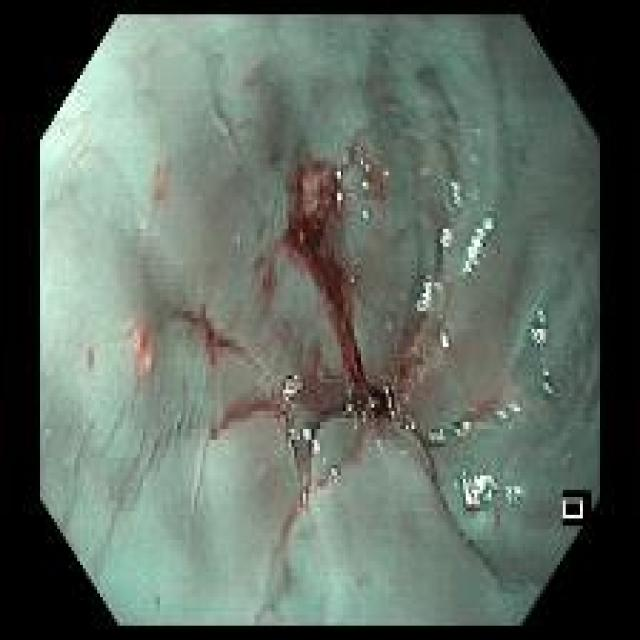blood: (277, 162, 364, 386)
color misalignment: (564, 499, 584, 523)
specularity: (461, 220, 493, 278), (461, 475, 499, 511), (417, 278, 445, 316), (529, 311, 548, 352), (383, 385, 396, 424), (496, 403, 521, 423), (283, 378, 302, 403), (447, 180, 463, 209), (503, 484, 523, 505), (288, 430, 300, 457), (440, 228, 454, 249), (440, 328, 451, 353), (428, 432, 447, 446), (348, 403, 357, 432), (451, 424, 471, 436), (302, 477, 308, 508), (405, 418, 416, 432), (404, 443, 411, 465), (369, 398, 377, 417), (302, 428, 312, 442), (390, 382, 398, 398), (362, 179, 371, 192), (420, 168, 430, 179), (363, 207, 370, 222), (543, 385, 552, 396), (314, 446, 320, 458), (358, 164, 370, 170), (383, 171, 392, 179), (542, 370, 550, 379), (332, 471, 337, 483), (335, 171, 341, 180), (337, 192, 341, 205), (363, 413, 365, 426)
